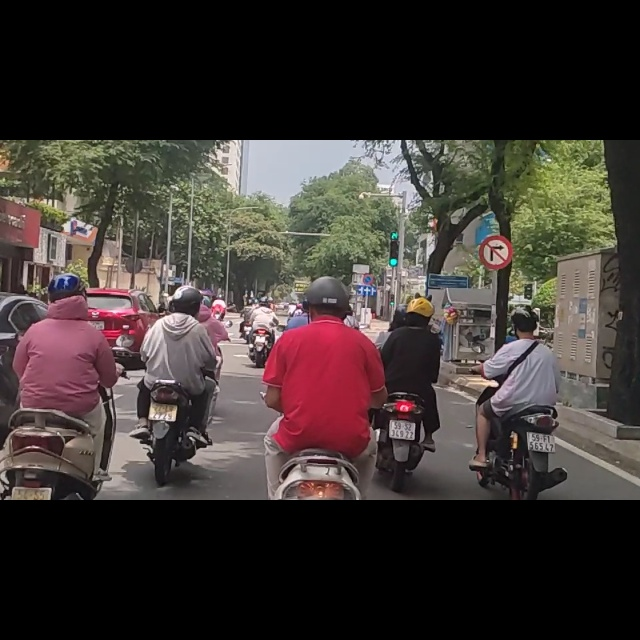bien_chi_dan: (481, 171, 513, 231), (362, 237, 375, 261)
